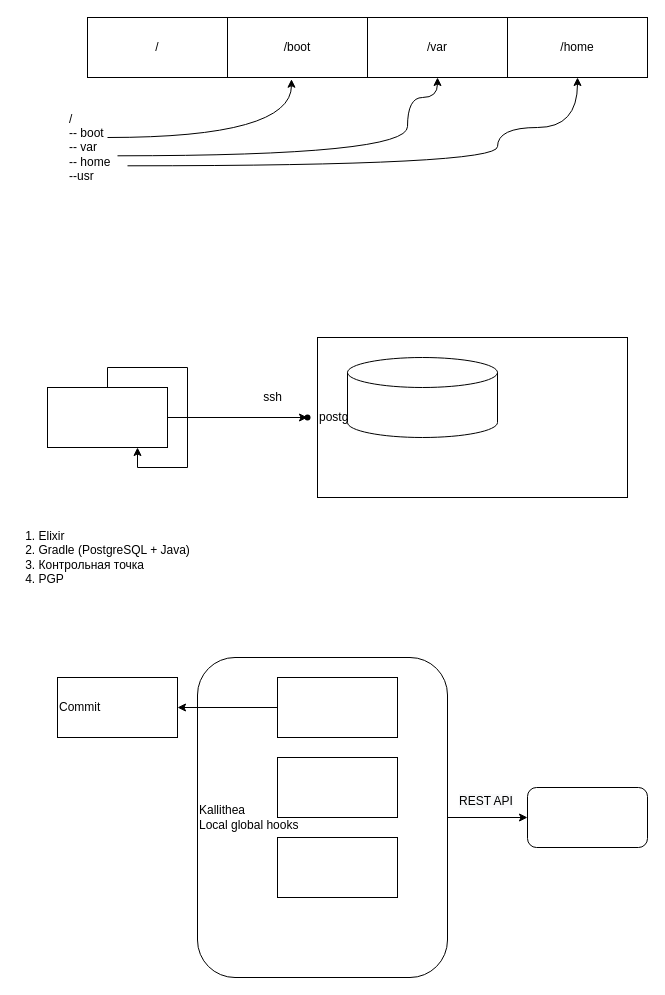
The diagram is 665 pixels wide and 995 high, and some of its shapes have lost their labels. Each missing label, with the centre of its shape:
"Java" belongs at point 107,417.
"PostgreSQL" belongs at point 422,397.
"to Jenkins" belongs at point 587,817.
